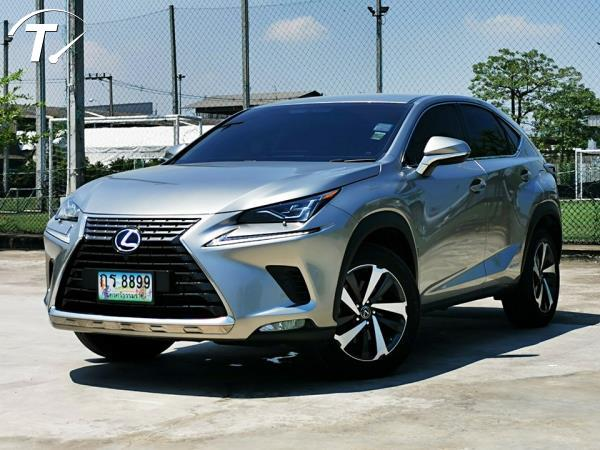pickup: (40, 90, 562, 379)
